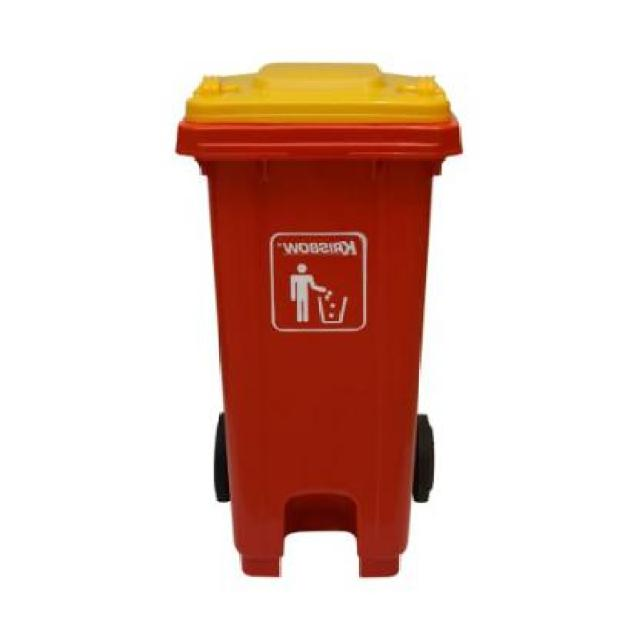garbage container: (156, 52, 470, 613)
